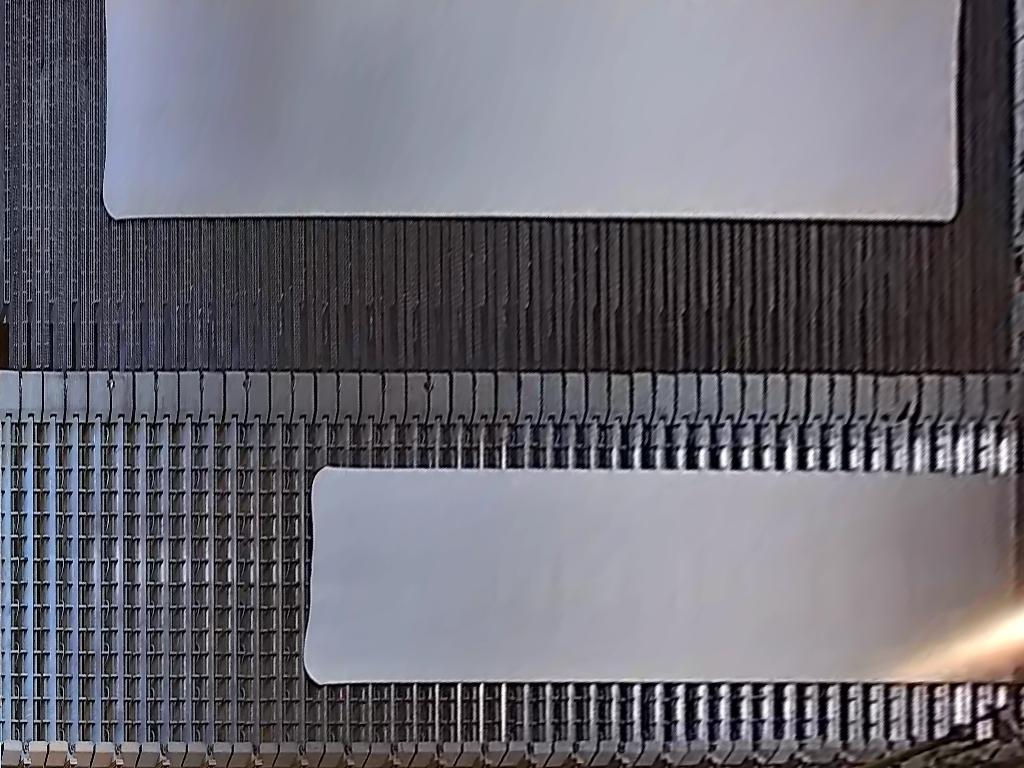steel: (101, 1, 961, 225), (302, 467, 1024, 684)
